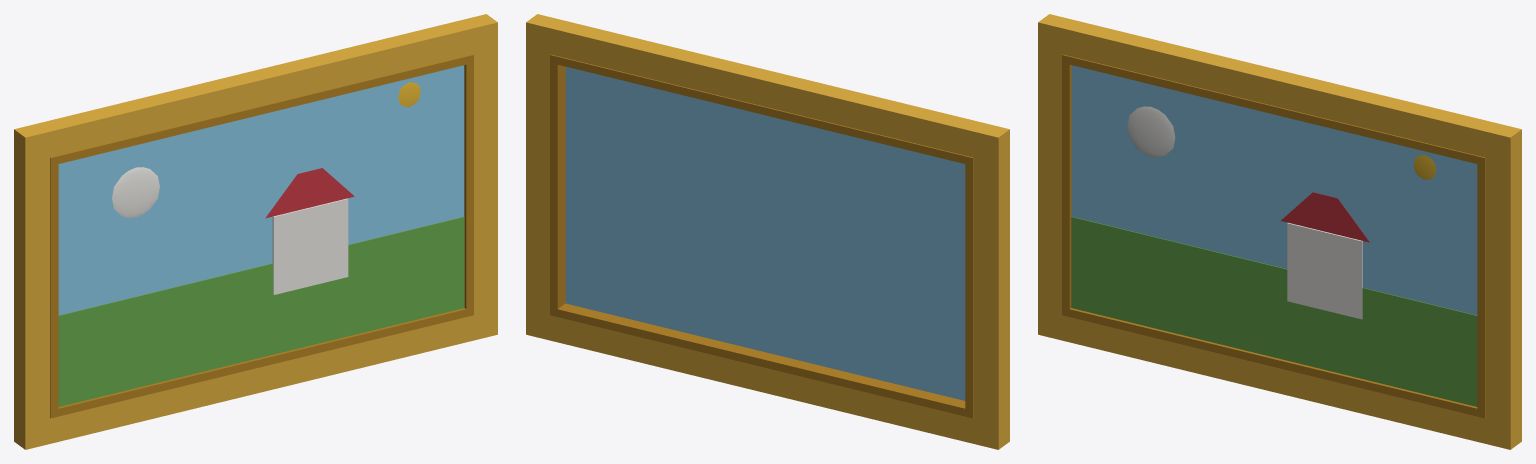
Rendered from painting.glb.
3 views of the same model, side by side, from view 1: azimuth 30°, elevation 25°; view 2: azimuth 150°, elevation 25°; view 3: azimuth 330°, elevation 25° (orthographic).
Visible parts, largest first — view 1: root; view 2: root; view 3: root.
Boxes of the visible parts, x1,y1,x2,y2 form: root: (14,14,497,449); root: (526,14,1009,449); root: (1038,14,1521,449).
Bounding box in the file's own units: 1.9 × 1.2 × 0.09.
